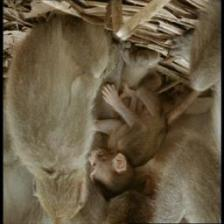monkey: (88, 144, 140, 198)
